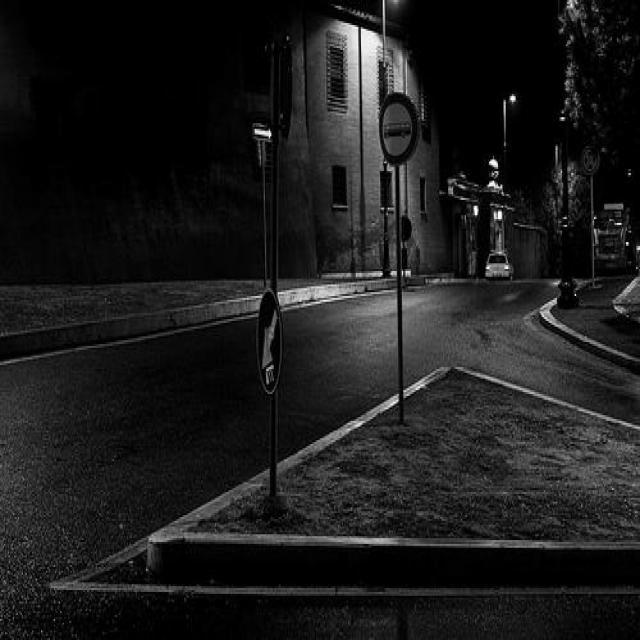vehicle: (485, 254, 511, 283)
